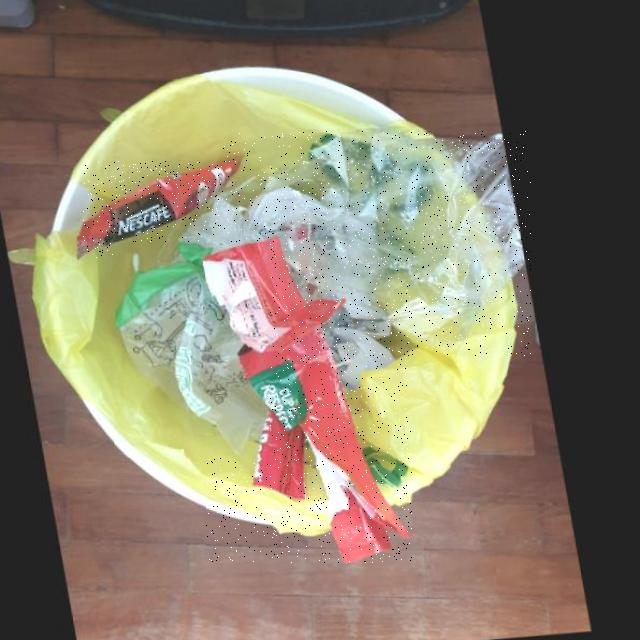plastic: (223, 131, 531, 355), (115, 242, 270, 457)
wrapper: (206, 230, 412, 562), (83, 161, 247, 258)
